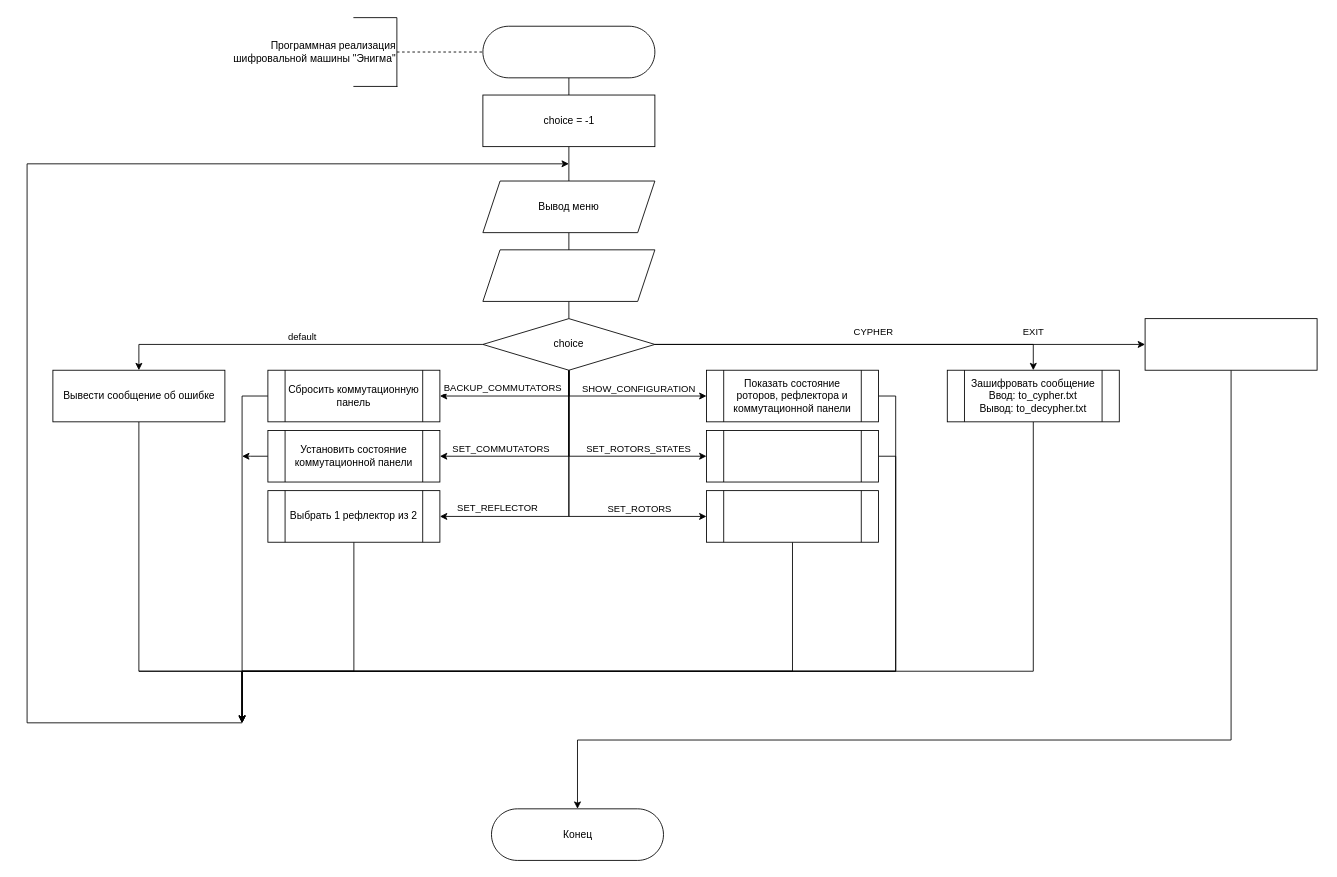
This 1337x877 diagram has some shape labels left out. Each missing label, with the box of its shape:
Ввод choice: (482, 249, 655, 301)
Выбрать 3 ротора из 10: (706, 490, 878, 542)
Вывести сообщение о завершении работы программы: (1144, 318, 1317, 370)
Начало: (482, 25, 655, 78)
Установить состояние роторов: (706, 430, 878, 482)
